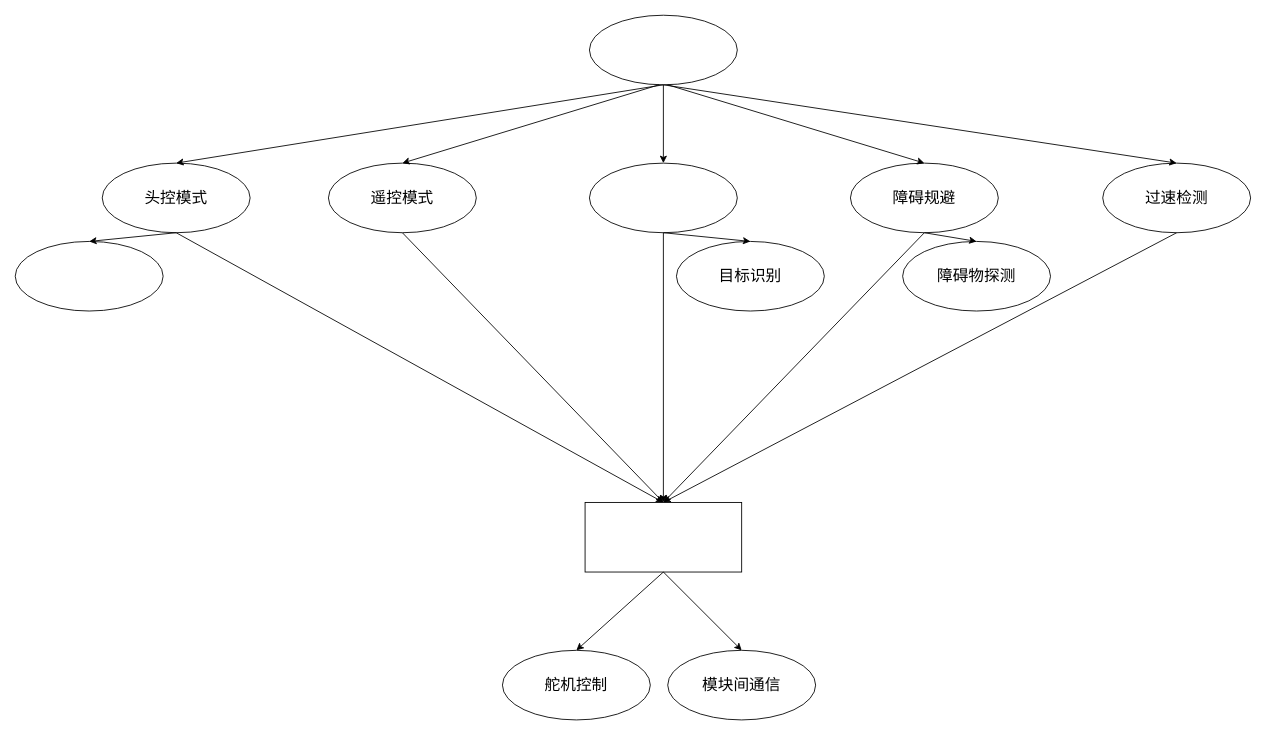
The diagram is 1266 pixels wide and 735 high, and some of its shapes have lost their labels. Each missing label, with the box of its shape:
头部姿态识别: (14, 241, 163, 311)
系统基础功能: (584, 502, 742, 572)
跟随模式: (589, 162, 737, 233)
轮椅辅助控制系统: (589, 14, 737, 85)
